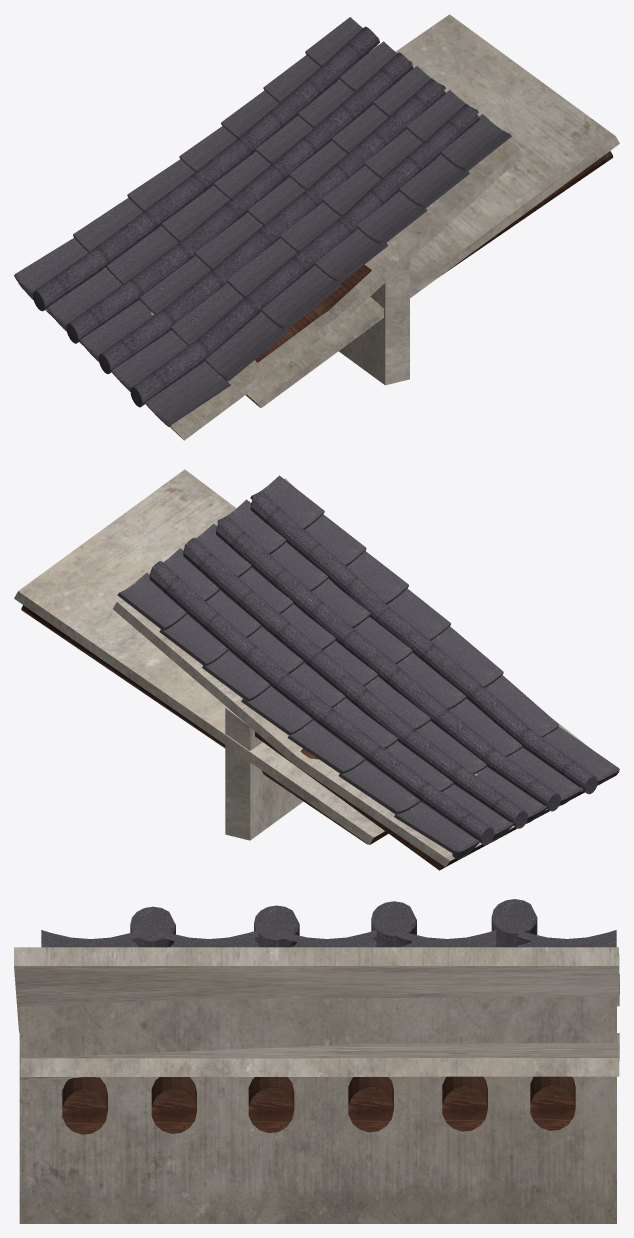
File: SM_Roof_51.fbx
3 renders of one model, top to bottom at view 1: azimuth 30°, elevation 25°; view 2: azimuth 150°, elevation 25°; view 3: azimuth 270°, elevation 25°, orthographic. The views are drawn at different scales.
Parts seen in each view (by area): view 1: SM_Roof_51; view 2: SM_Roof_51; view 3: SM_Roof_51.
Part boxes in pixels (bbox=[...]): SM_Roof_51: bbox=[14, 14, 619, 440]; SM_Roof_51: bbox=[14, 469, 619, 870]; SM_Roof_51: bbox=[14, 899, 619, 1223].
Size of the model in its own units: 592 by 380 by 297.
Materials: 4 (4 with a texture image).
